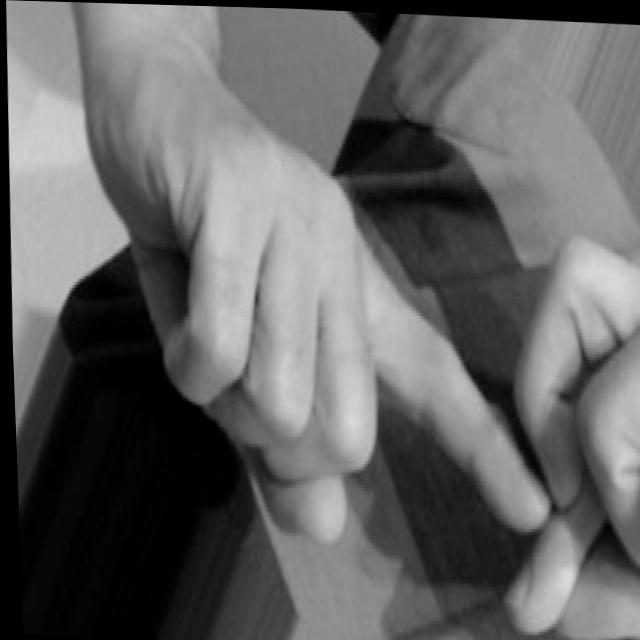R: (78, 73, 640, 640)
